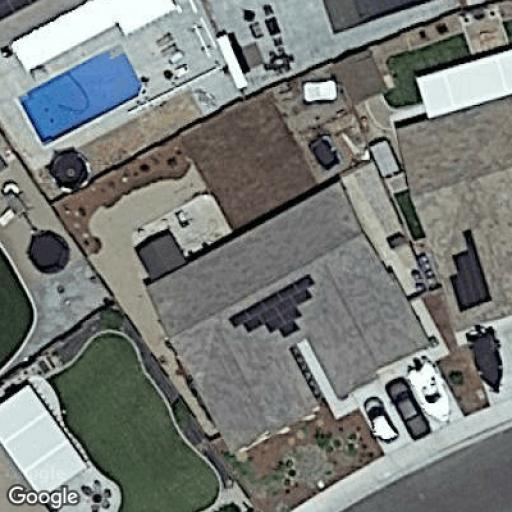solar-panel: (225, 272, 320, 341), (448, 226, 494, 314)
